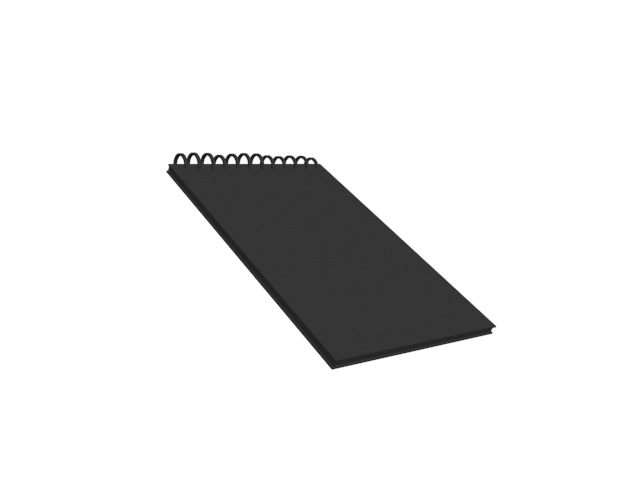paper_notebook: (161, 153, 504, 376)
